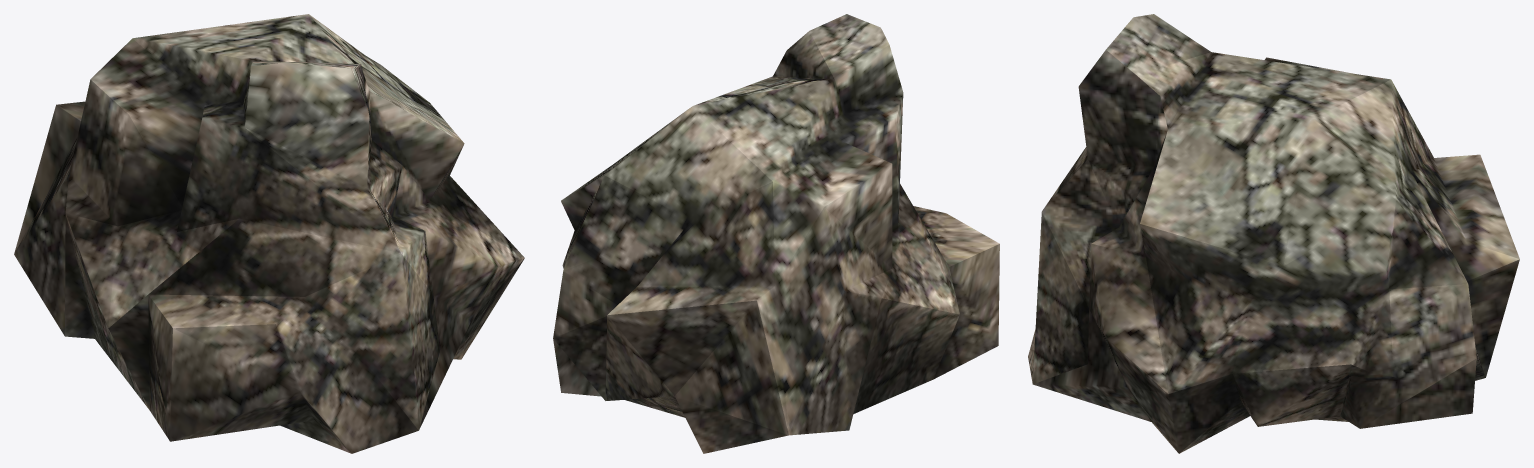
File: Rock1A.FBX
3 views of the same model, side by side, from view 1: azimuth 30°, elevation 25°; view 2: azimuth 150°, elevation 25°; view 3: azimuth 270°, elevation 25° (orthographic). The views are drawn at different scales.
Parts seen in each view (by area): view 1: Rock1A_64; view 2: Rock1A_64; view 3: Rock1A_64.
Part boxes in pixels (x1,y1,x2,y2): Rock1A_64: (14,14,524,453); Rock1A_64: (553,14,999,453); Rock1A_64: (1028,14,1519,453).
Size of the model in its own units: 171 by 151 by 196.
1 material, 1 textured.
